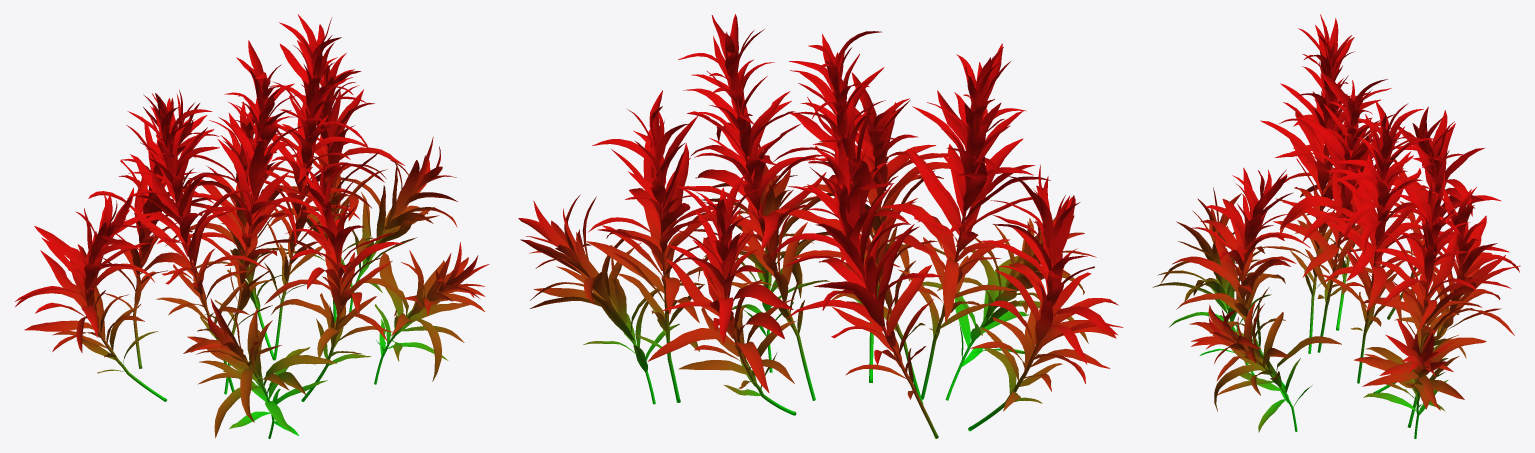
File: Butterfly Weed_LOD0_Var1.fbx
The picture shows the model from 3 angles, left to right: view 1: azimuth 30°, elevation 25°; view 2: azimuth 150°, elevation 25°; view 3: azimuth 270°, elevation 25°; orthographic projection. The views are drawn at different scales.
Parts seen in each view (by area): view 1: _rdnn_Var1_LOD0; view 2: _rdnn_Var1_LOD0; view 3: _rdnn_Var1_LOD0.
Part boxes in pixels (<box>): _rdnn_Var1_LOD0: <box>15,14,489,438</box>; _rdnn_Var1_LOD0: <box>518,14,1123,438</box>; _rdnn_Var1_LOD0: <box>1152,14,1520,438</box>.
Bounding box in the file's own units: 111 × 77.91 × 79.27.
